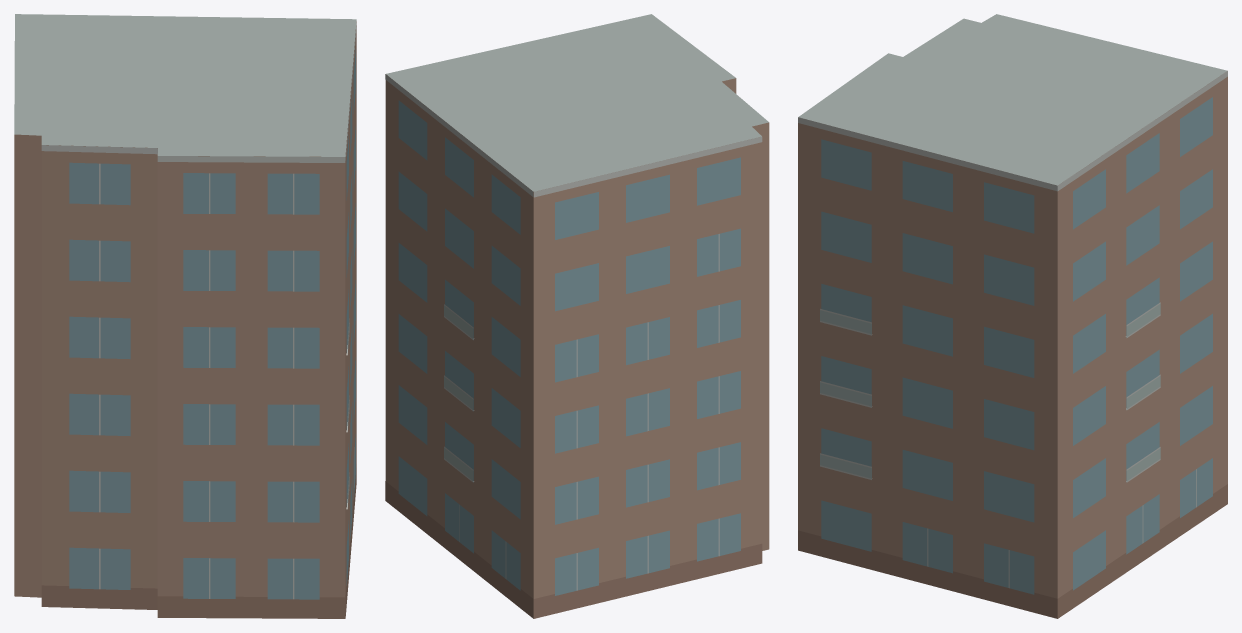
The model's file is survey-upis-32887290.glb.
The picture shows the model from 3 angles, left to right: view 1: azimuth 30°, elevation 25°; view 2: azimuth 150°, elevation 25°; view 3: azimuth 270°, elevation 25°; orthographic projection. The views are drawn at different scales.
Visible parts, largest first — view 1: survey-upis-32887290.tmp; view 2: survey-upis-32887290.tmp; view 3: survey-upis-32887290.tmp.
Part boxes in pixels (x1,y1,x2,y2): survey-upis-32887290.tmp: (14,14,356,618); survey-upis-32887290.tmp: (385,14,769,618); survey-upis-32887290.tmp: (798,14,1227,618).
Size of the model in its own units: 15.55 by 18.3 by 16.46.
